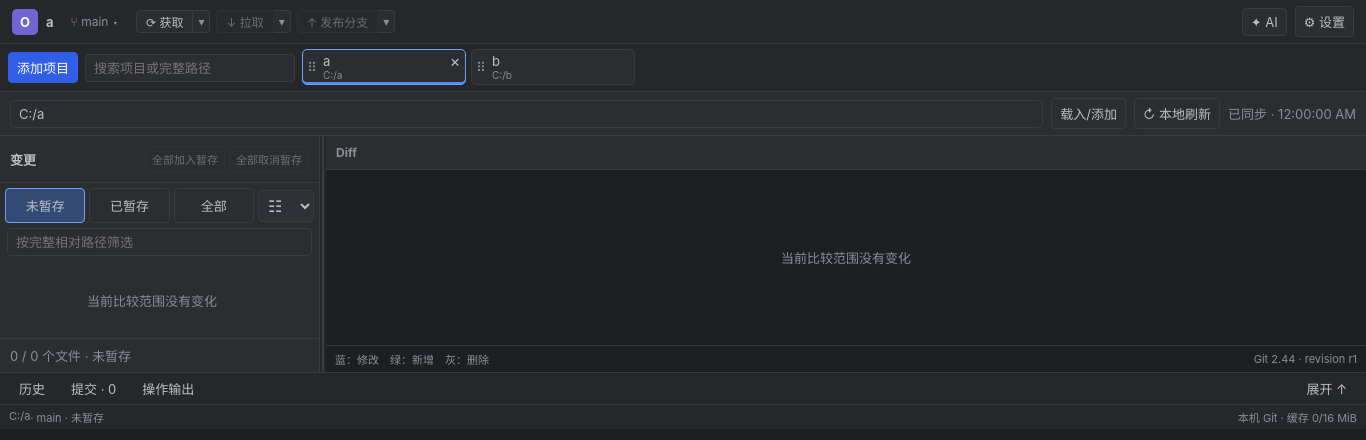
it: empty repository loading state (no native windows) › ends the pending read when returning to a cached empty project and ignores its late result
Click the button "b C:/b".
click(552, 67)  # box [490, 50, 614, 84]
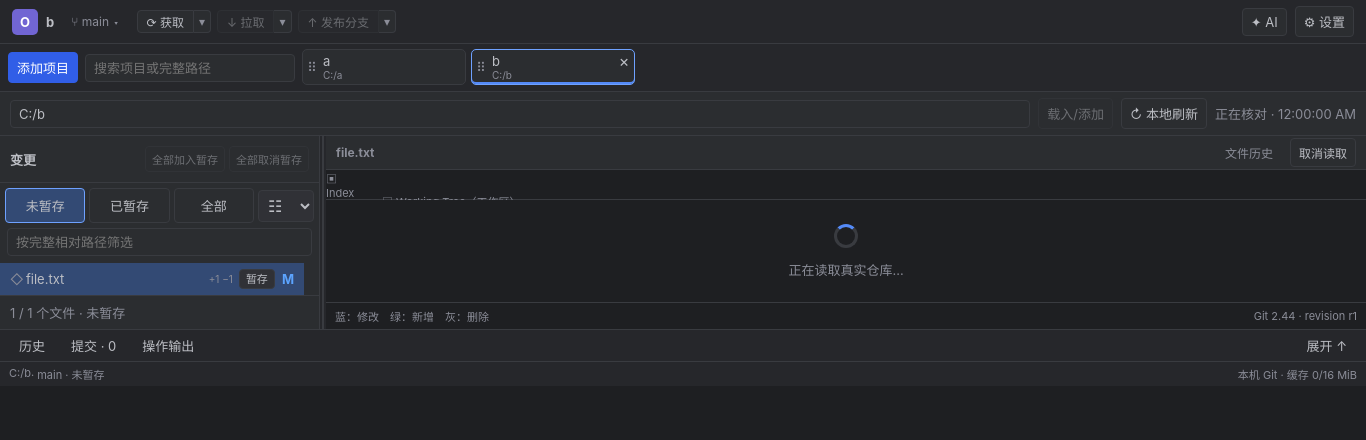
Check: the text "正在读取真实仓库" is shown, box [788, 262, 904, 278]
Click the button "a C:/a".
click(383, 67)  # box [321, 50, 445, 84]
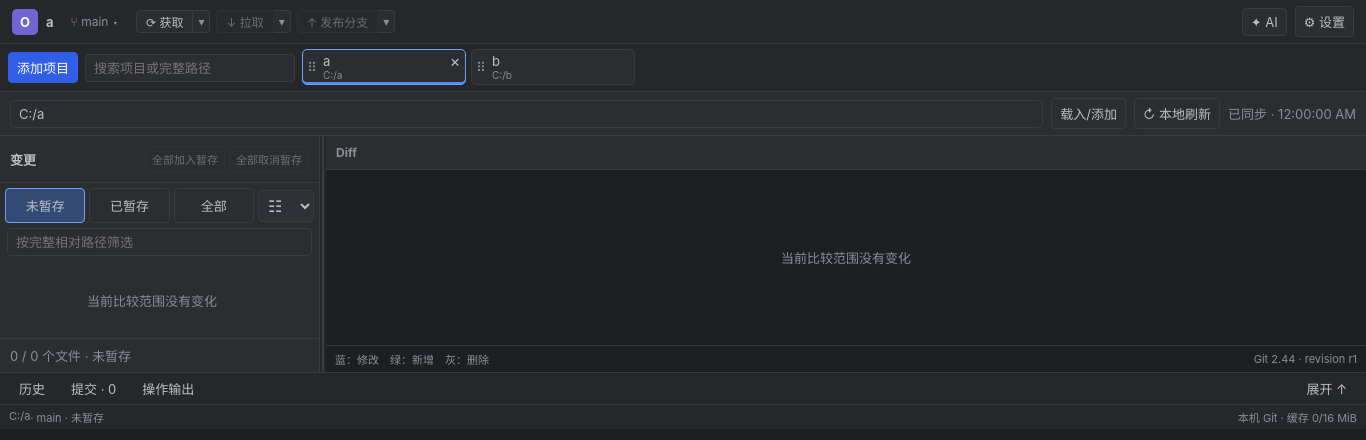
Check: the text "正在读取真实仓库" is gone
Check: the element showing "当前比较范围没有变化" is shown, box [326, 170, 1365, 345]
Check: the text "取消读取" is gone
